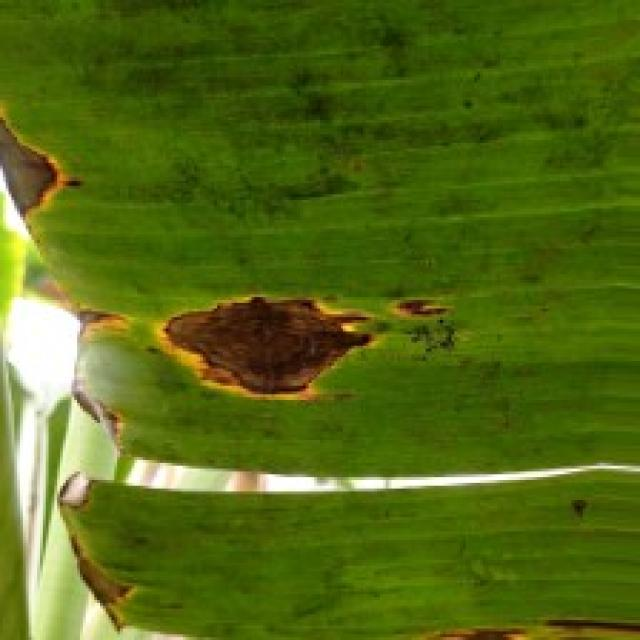Bacterial_spot: (151, 219, 382, 421), (0, 60, 74, 249), (423, 588, 640, 640), (45, 532, 151, 637), (379, 264, 476, 372), (62, 275, 148, 372)
